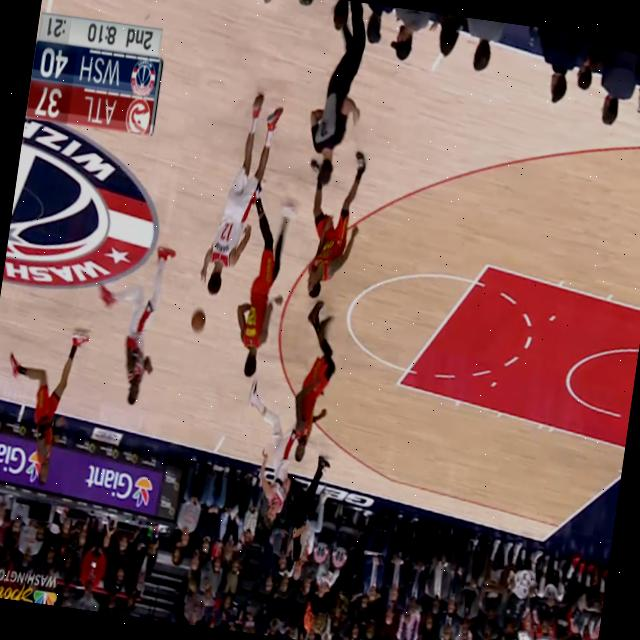no foul: (0, 237, 192, 506), (192, 84, 318, 391), (228, 288, 368, 538)
